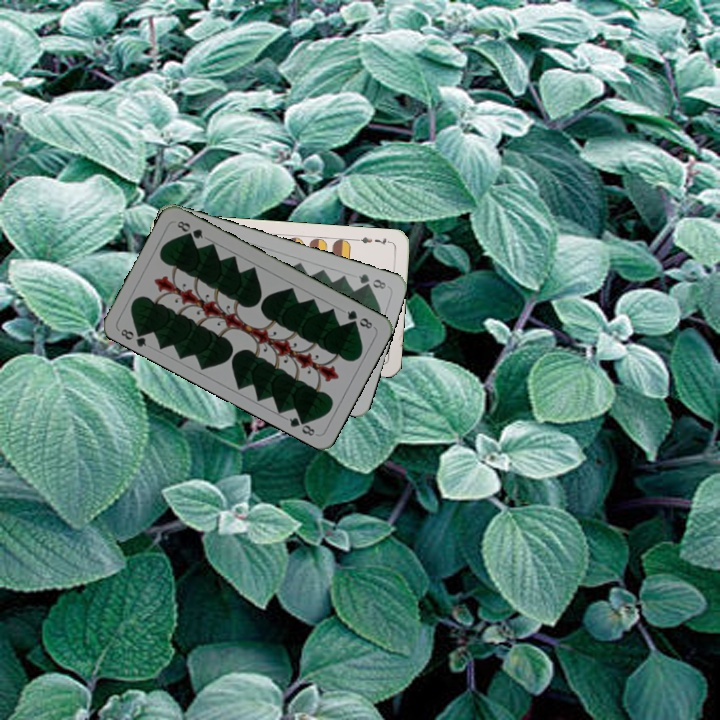E7: (353, 233, 394, 248)
G8: (116, 324, 149, 350), (343, 306, 375, 331), (354, 270, 389, 292)
